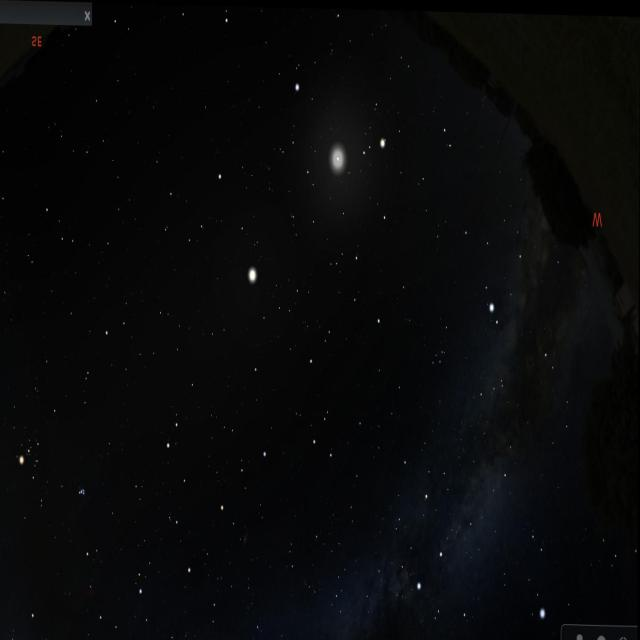cygnus: (412, 455, 514, 629)
lyra: (521, 519, 558, 623)
moon: (319, 114, 357, 192)
pleiades: (72, 469, 91, 508)
taurus: (10, 400, 94, 524)
